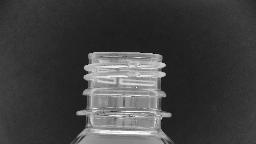No Cap: (70, 48, 176, 122)
